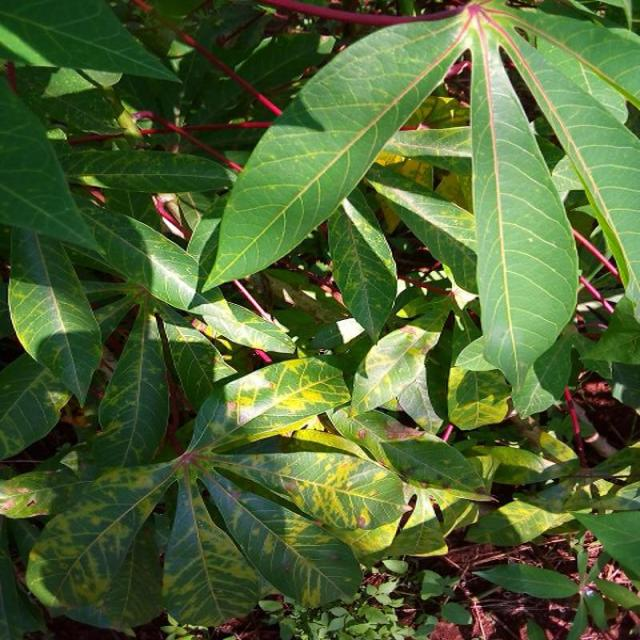cassava leaf: (2, 1, 638, 634), (201, 1, 639, 416), (199, 7, 473, 294), (469, 14, 581, 415)
